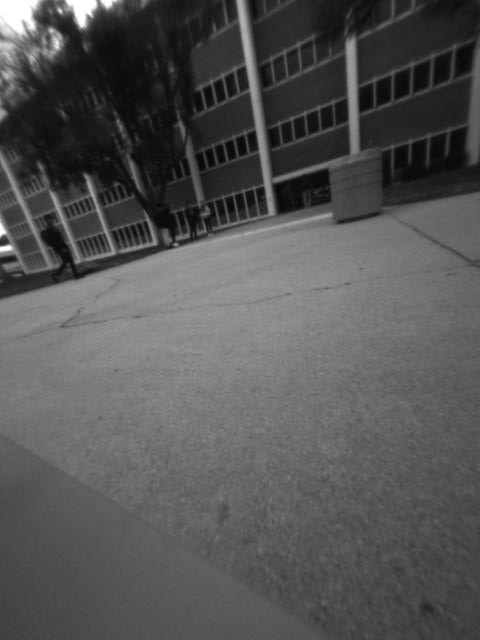trashcan: (326, 142, 390, 224)
